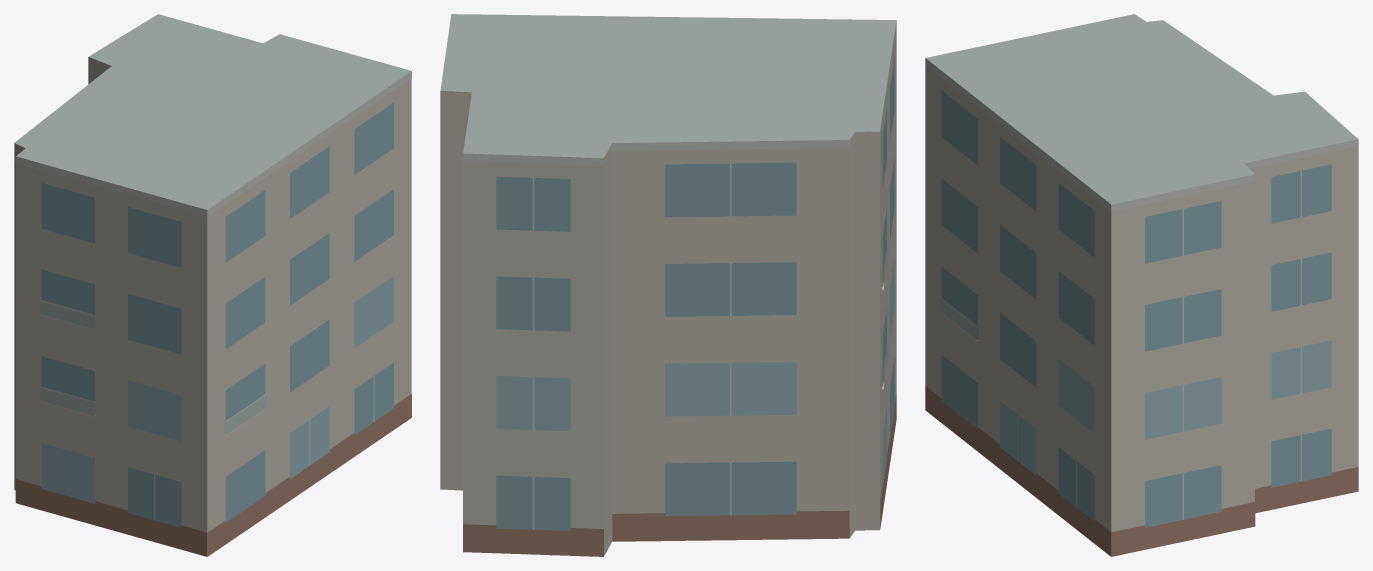
Rendered from survey-upis-32922948.glb.
3 views of the same model, side by side, from view 1: azimuth 30°, elevation 25°; view 2: azimuth 150°, elevation 25°; view 3: azimuth 270°, elevation 25° (orthographic). The views are drawn at different scales.
Visible parts, largest first — view 1: survey-upis-32922948.tmp; view 2: survey-upis-32922948.tmp; view 3: survey-upis-32922948.tmp.
Part boxes in pixels (x1,y1,x2,y2): survey-upis-32922948.tmp: (14, 14, 411, 556); survey-upis-32922948.tmp: (440, 14, 896, 556); survey-upis-32922948.tmp: (925, 14, 1358, 556).
Size of the model in its own units: 14.22 by 12.25 by 13.66.
